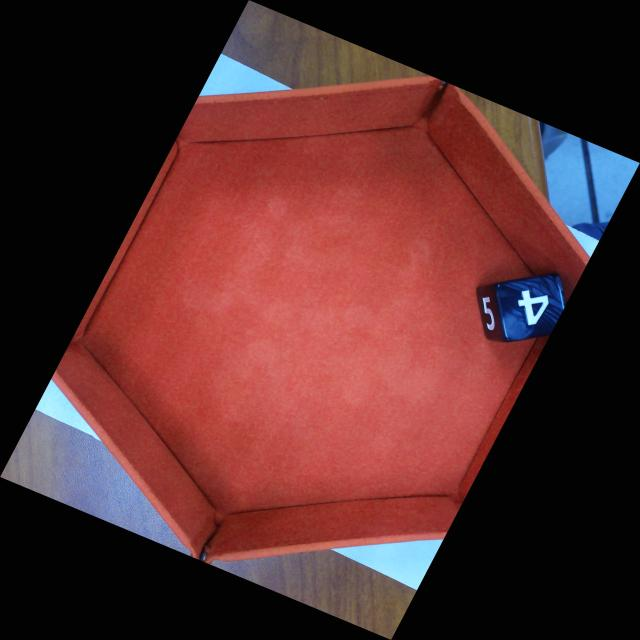dice: (501, 279, 564, 339)
